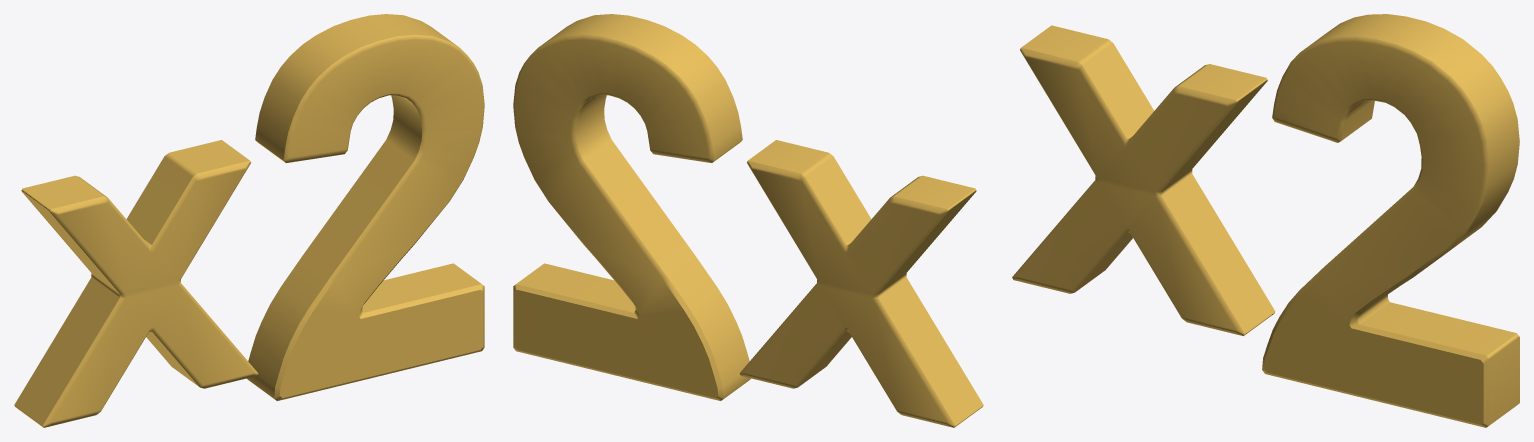
Rendered from p7_zm_power_up_double_points.glb.
The picture shows the model from 3 angles, left to right: view 1: azimuth 30°, elevation 25°; view 2: azimuth 150°, elevation 25°; view 3: azimuth 330°, elevation 25°; orthographic projection. The views are drawn at different scales.
Visible parts, largest first — view 1: p7_zm_power_up_double_points_mesh; view 2: p7_zm_power_up_double_points_mesh; view 3: p7_zm_power_up_double_points_mesh.
Boxes of the visible parts, left/top/right/bottom form: p7_zm_power_up_double_points_mesh: left=14, top=14, right=484, bottom=427; p7_zm_power_up_double_points_mesh: left=513, top=14, right=983, bottom=427; p7_zm_power_up_double_points_mesh: left=1012, top=14, right=1519, bottom=427.
Bounding box in the file's own units: 21.73 × 15.76 × 2.74.
